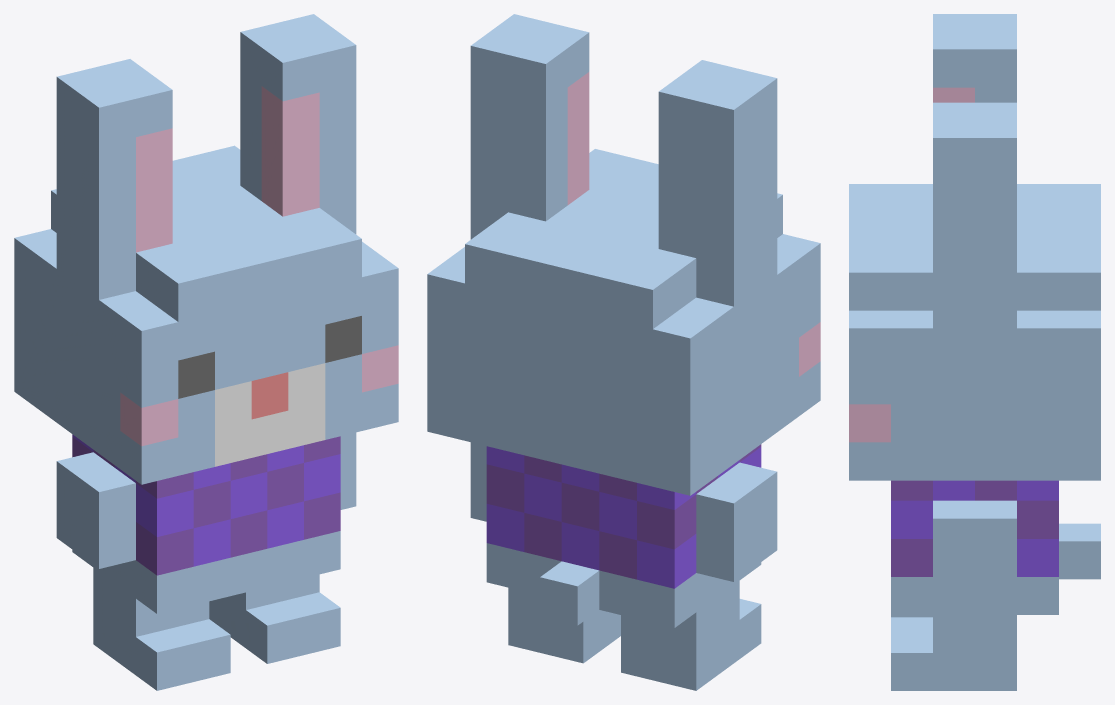
File: tokii_Blueberry_noHat.obj
The picture shows the model from 3 angles, left to right: view 1: azimuth 30°, elevation 25°; view 2: azimuth 150°, elevation 25°; view 3: azimuth 270°, elevation 25°; orthographic projection. The views are drawn at different scales.
Size of the model in its own units: 0.7 by 1.5 by 0.6.
1 material, 1 textured.
